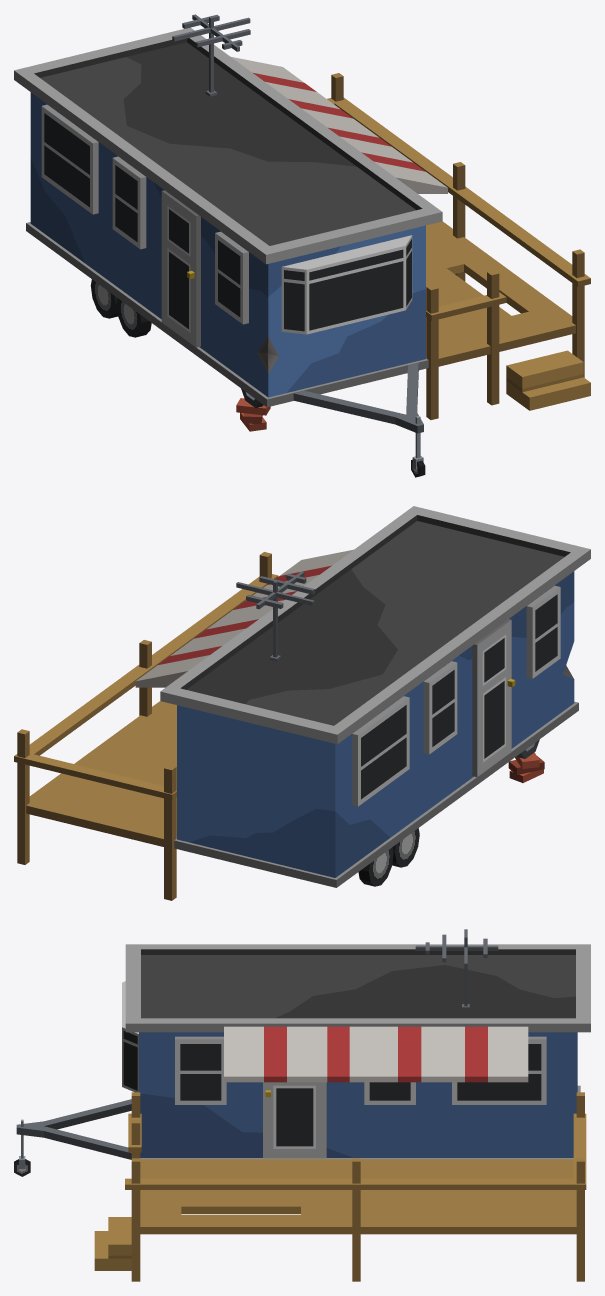
The model's file is SA_Bld_Trailer_Damaged_03.gltf.
3 views of the same model, one above another, from view 1: azimuth 30°, elevation 25°; view 2: azimuth 150°, elevation 25°; view 3: azimuth 270°, elevation 25° (orthographic). The views are drawn at different scales.
Visible parts, largest first — view 1: SA_Bld_Trailer_Damaged_03; view 2: SA_Bld_Trailer_Damaged_03; view 3: SA_Bld_Trailer_Damaged_03.
Part boxes in pixels (box(x1,y1,x2,y2)): SA_Bld_Trailer_Damaged_03: box(14, 14, 590, 477); SA_Bld_Trailer_Damaged_03: box(14, 506, 590, 900); SA_Bld_Trailer_Damaged_03: box(14, 929, 590, 1281).
Bounding box in the file's own units: 8.86 × 7.29 × 14.77.
Materials: 1 (1 with a texture image).
